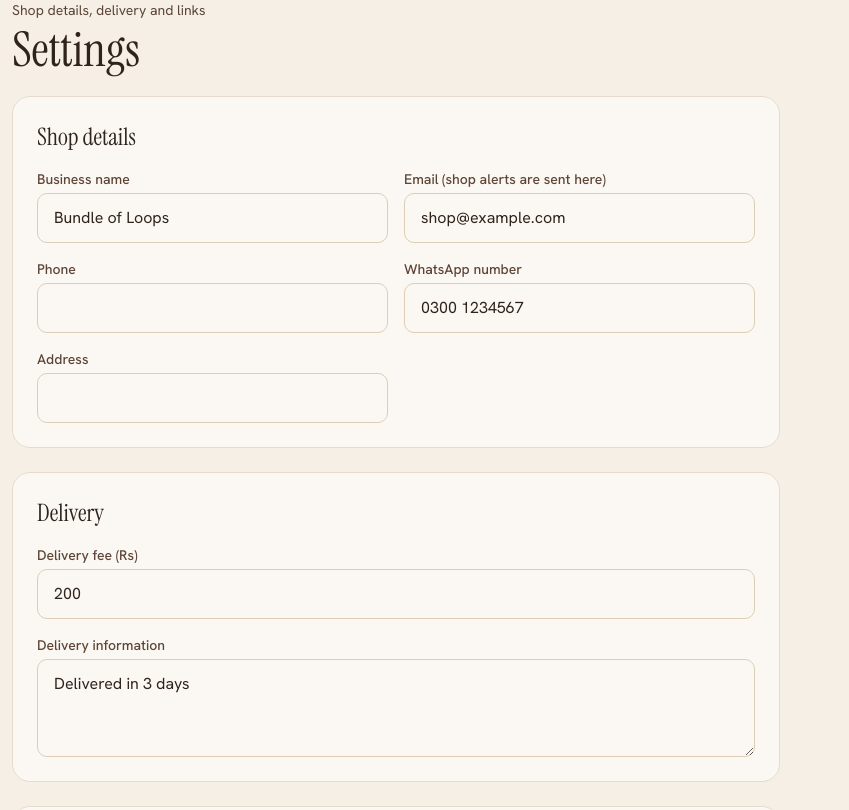
Test: saves changes, converting the fee to paisa and dropping empty links
Replace the text in the field labelled "Delivery fee (Rs)" with "250.50" at (396, 594), box [37,569,755,619]
(page scrolled)
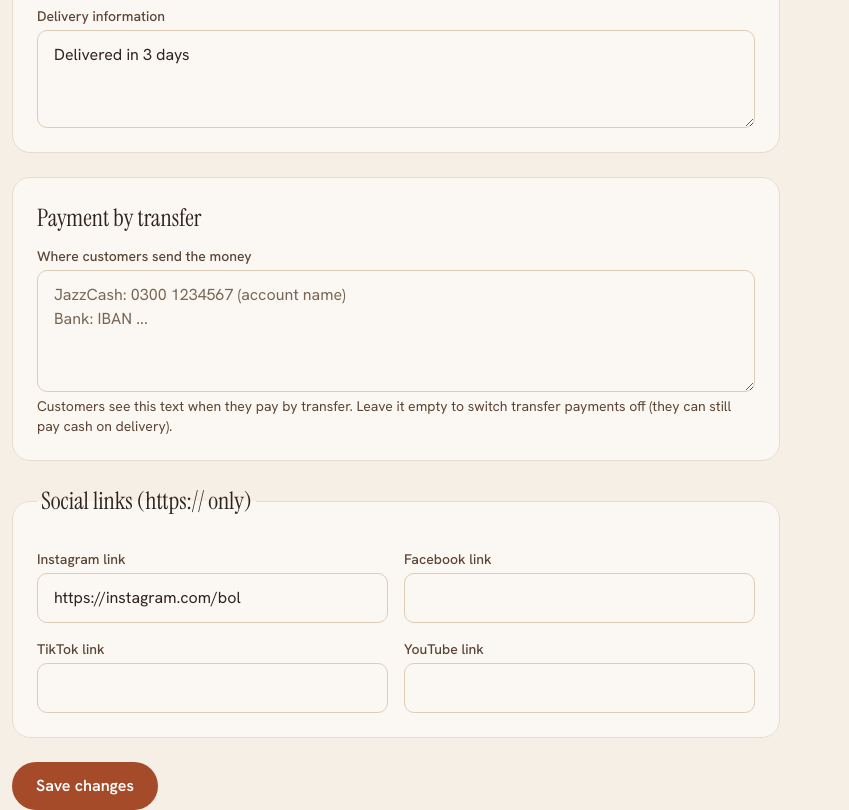
Clear the field labelled "Instagram link" at (212, 598), box [37,573,388,623]
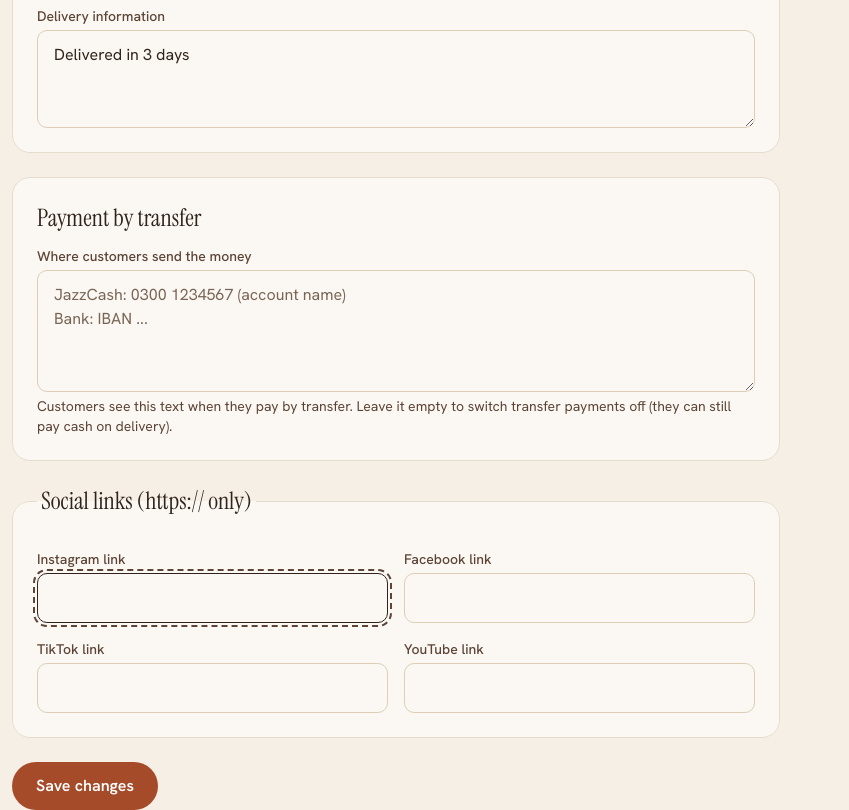
Click the button "Save changes".
click(85, 786)  # box [12,762,158,809]
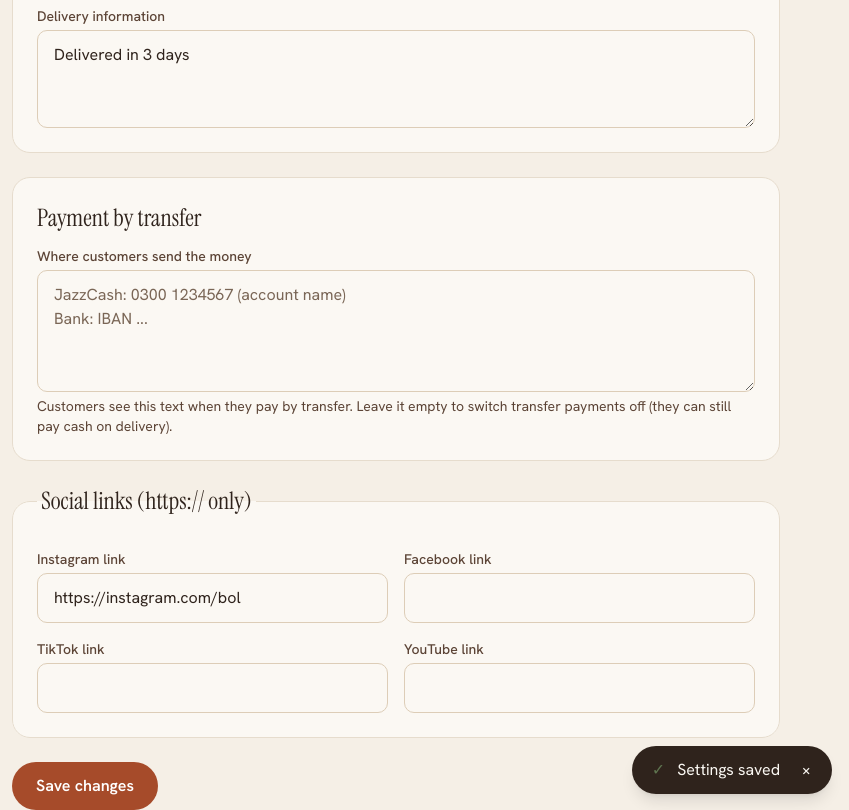
Now the text "Settings saved" is shown, box [677,758,780,782]
